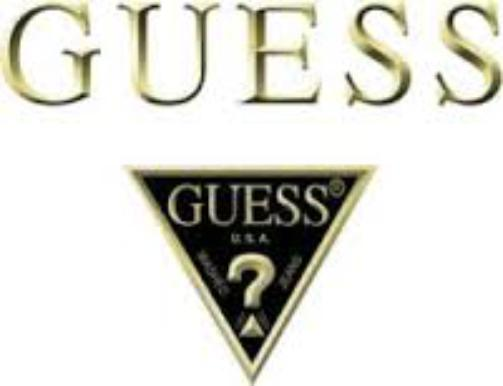GUESS: (113, 156, 389, 386), (5, 2, 503, 108)
